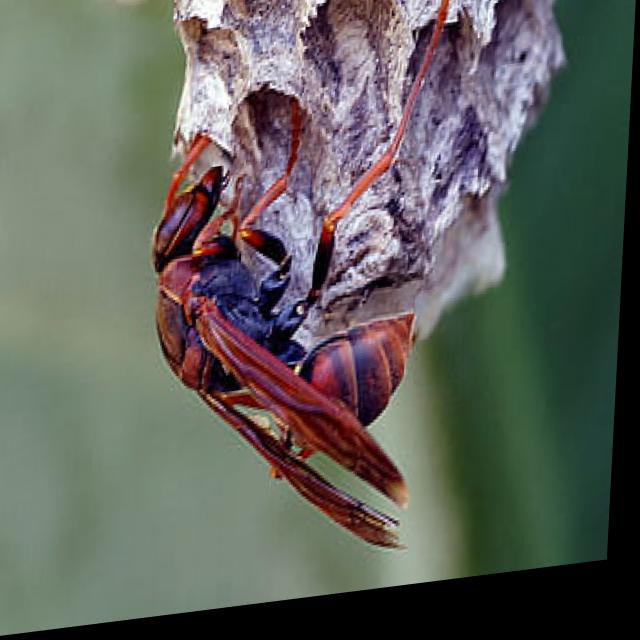Vespa Crabro: (113, 0, 495, 592)
